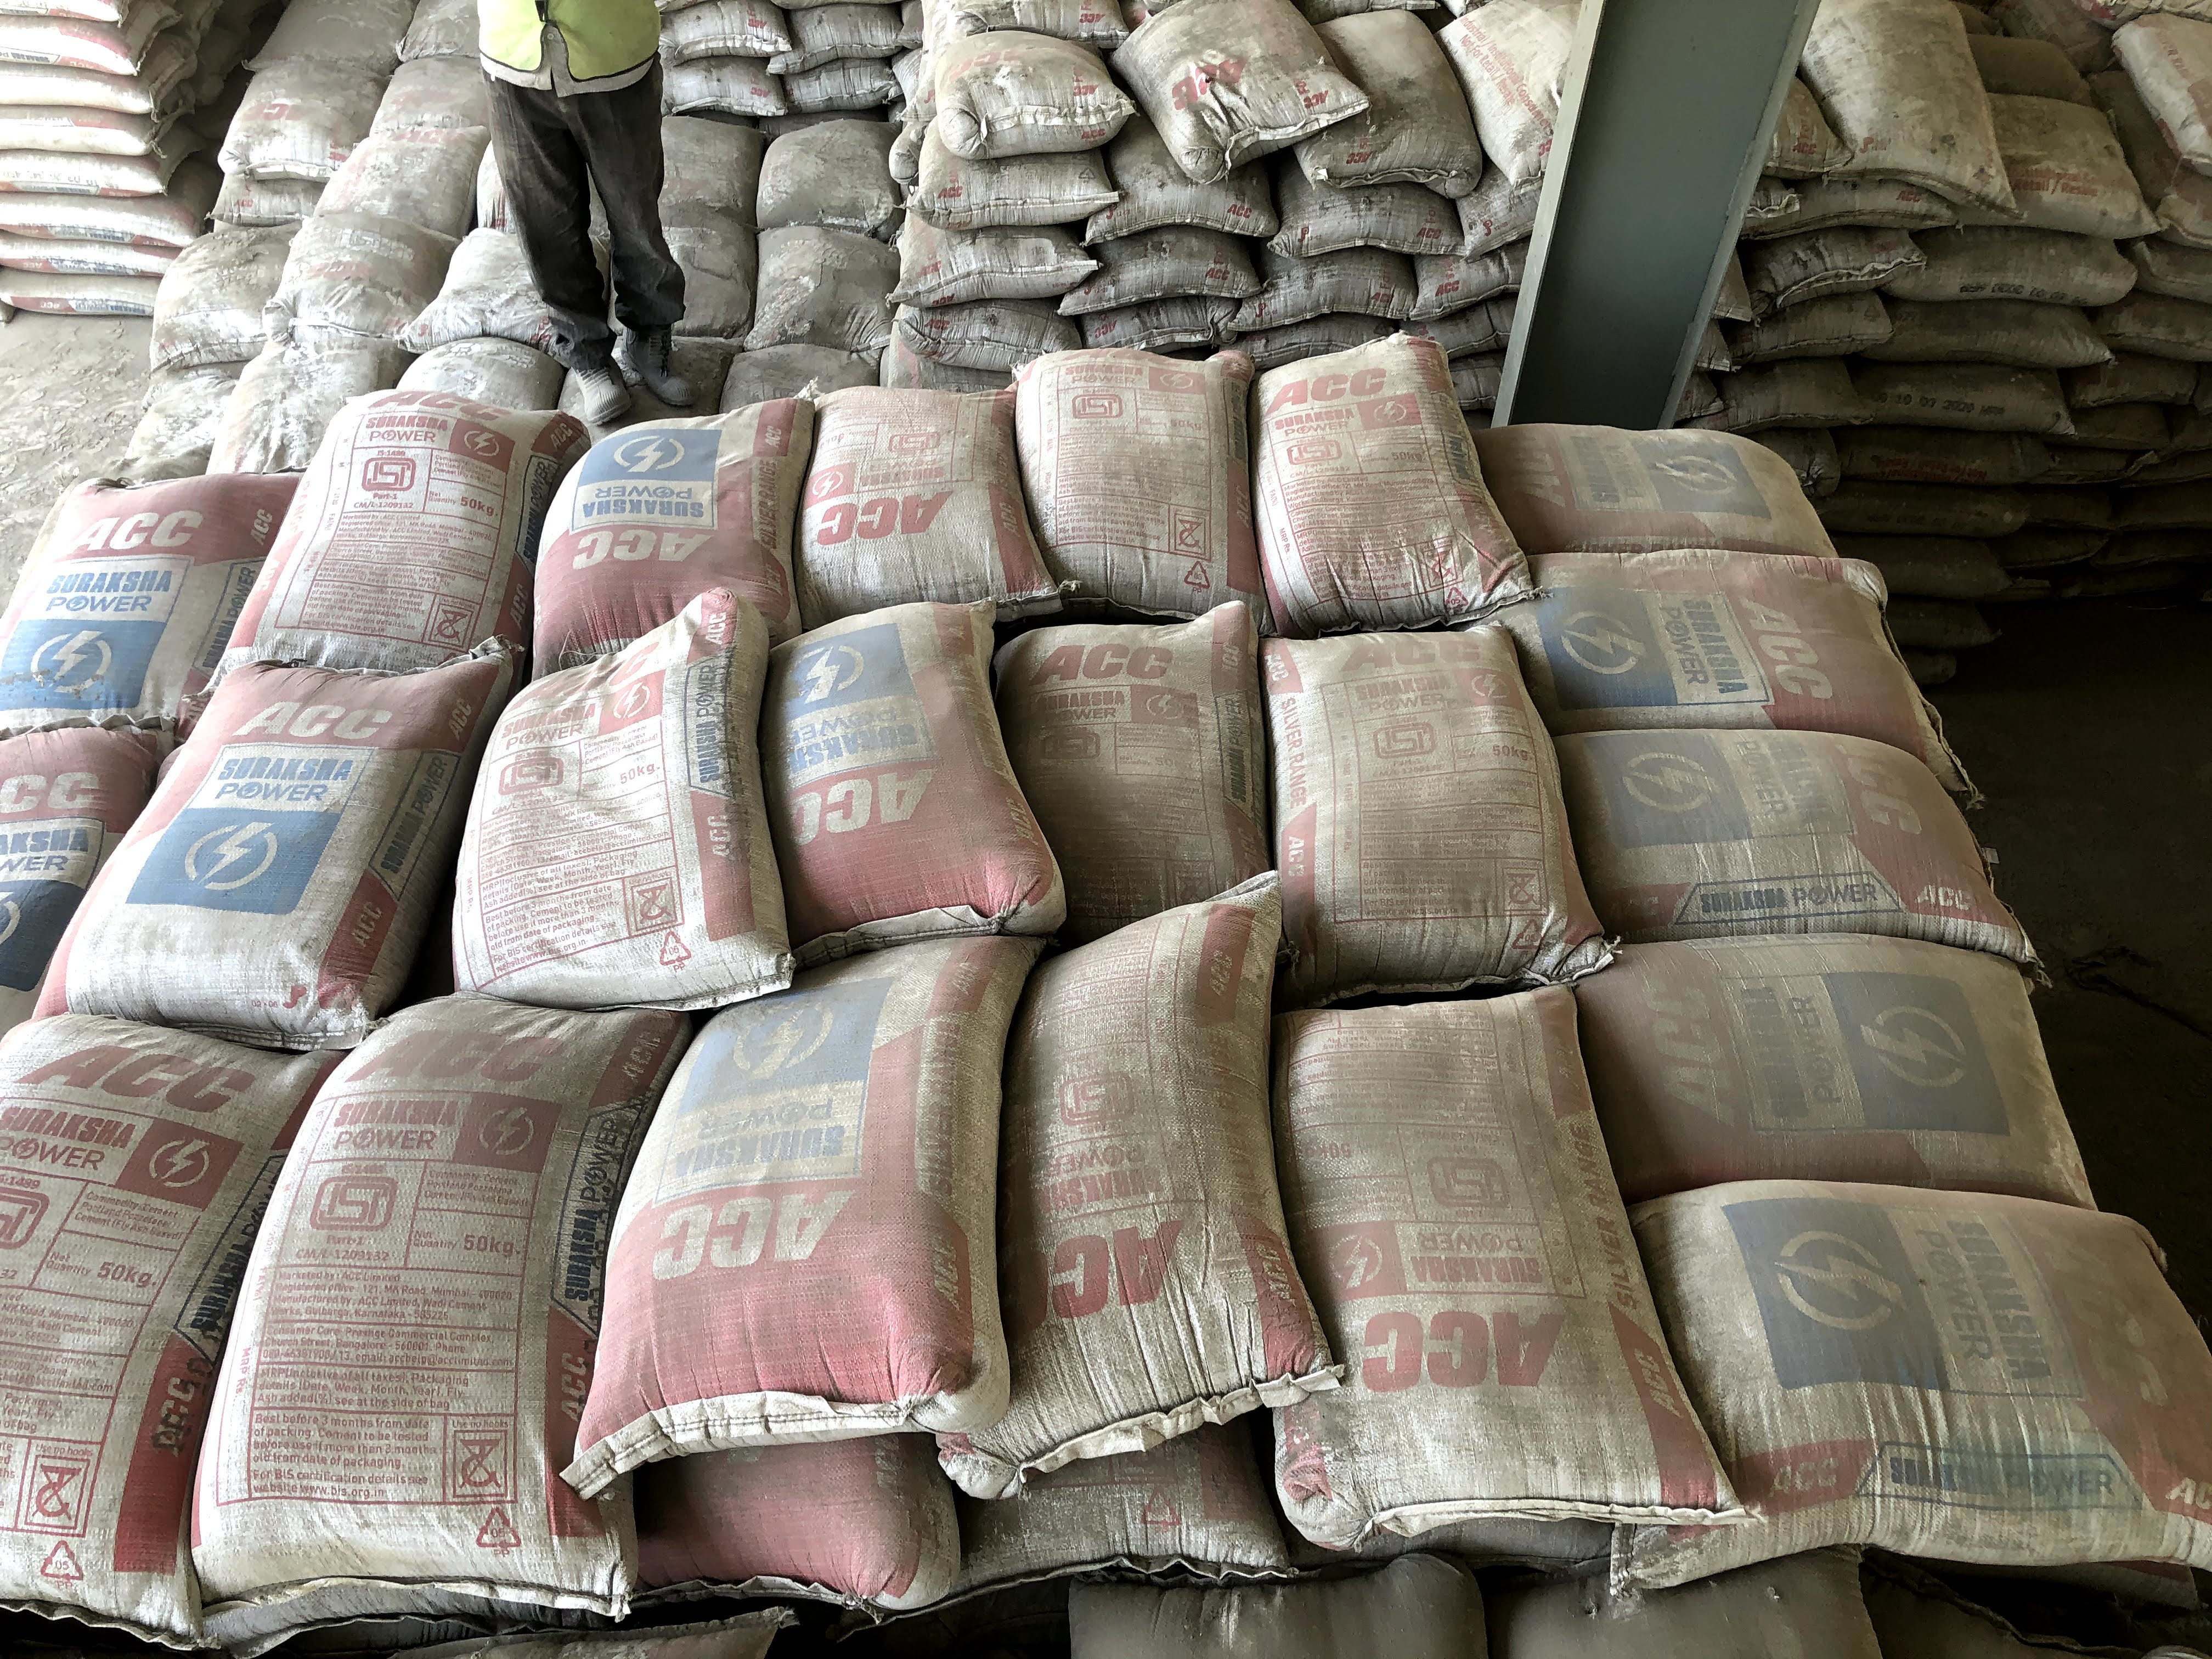cement bag: (216, 986, 624, 1624), (1282, 1004, 1733, 1541), (1689, 1201, 2186, 1544), (650, 985, 1003, 1406), (984, 985, 1334, 1377), (1595, 929, 2116, 1187), (17, 999, 216, 1624), (202, 375, 547, 718), (106, 671, 507, 941), (1012, 645, 1291, 960), (1291, 580, 1510, 960), (1214, 349, 1510, 580), (507, 671, 784, 913), (1538, 537, 1858, 732), (784, 645, 1012, 913), (561, 406, 817, 617), (1557, 732, 1919, 870), (813, 383, 1052, 575), (1491, 420, 1858, 537), (1052, 349, 1214, 575), (59, 465, 202, 718)
